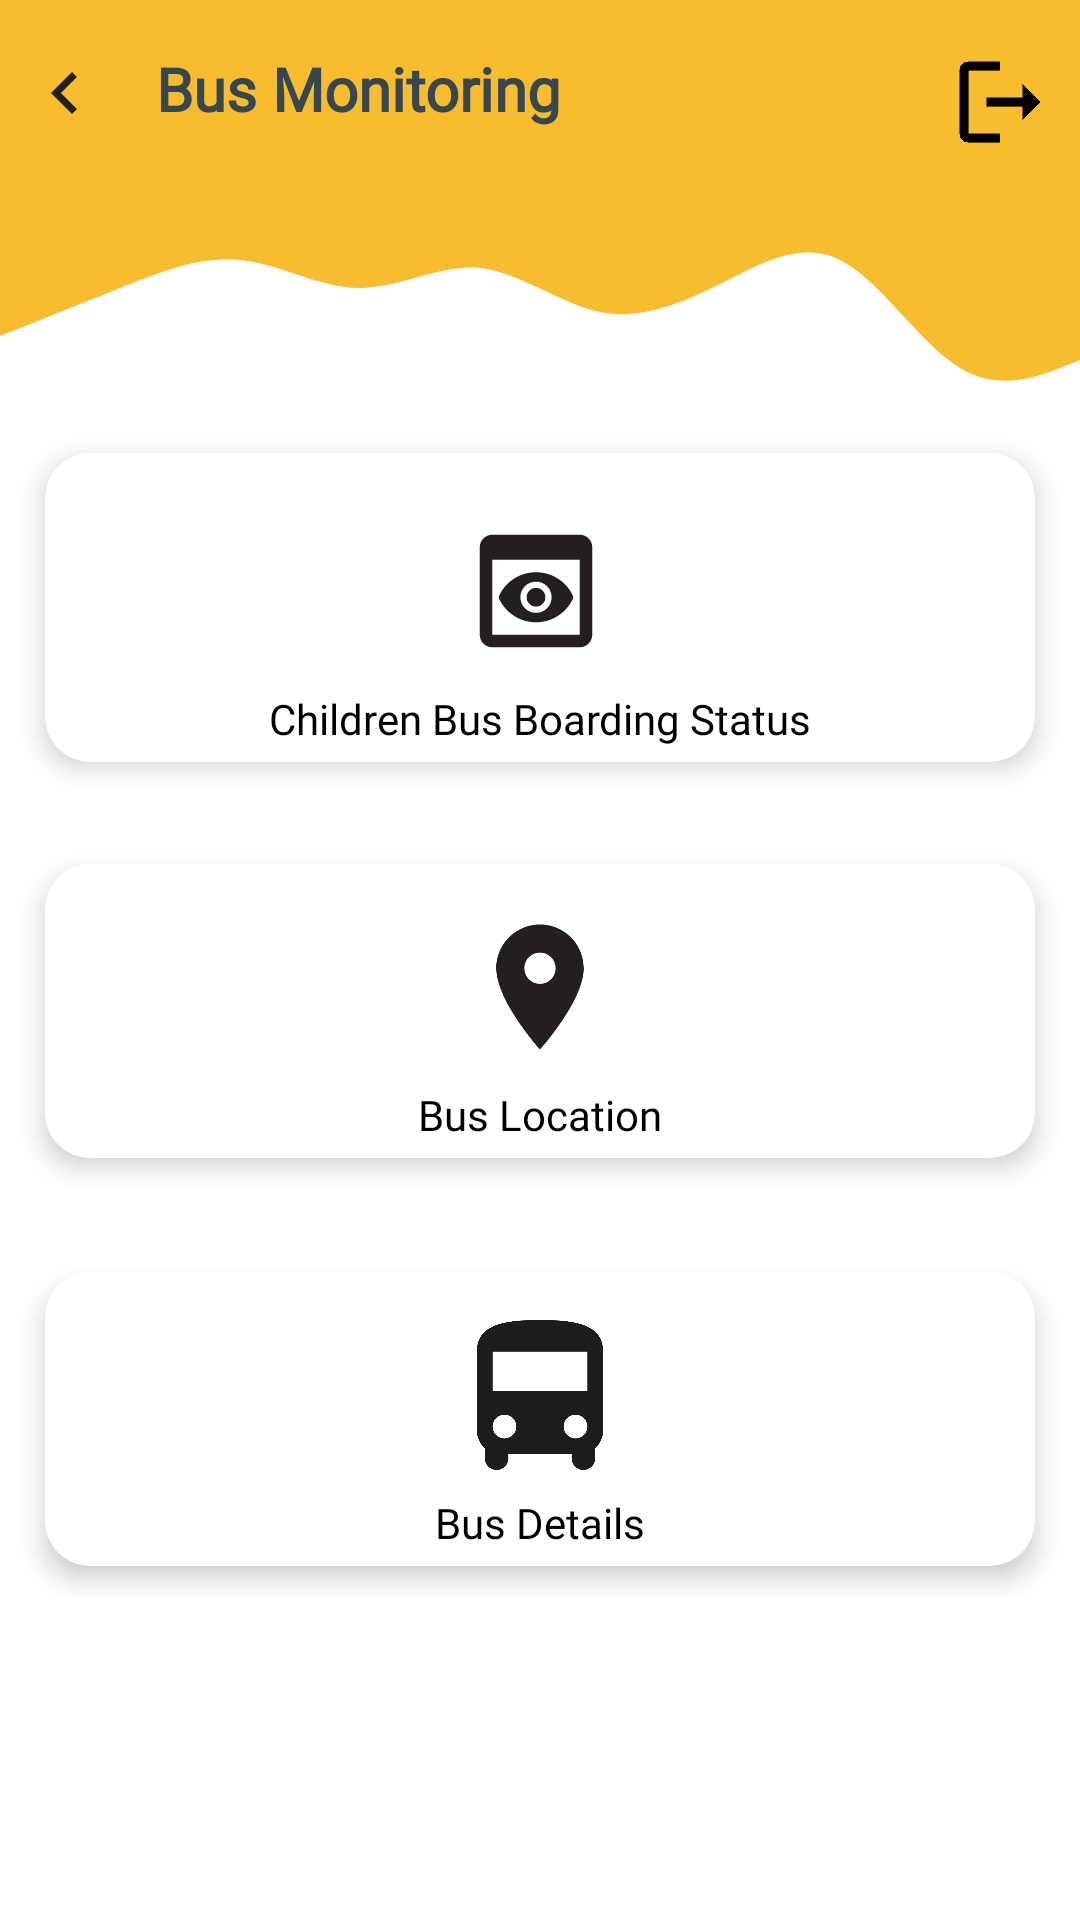

Screen size 1080×1920. Icon name, then its box in pixels as (x1, y1, x2, y2):
chevron left: (51, 72, 77, 114)
